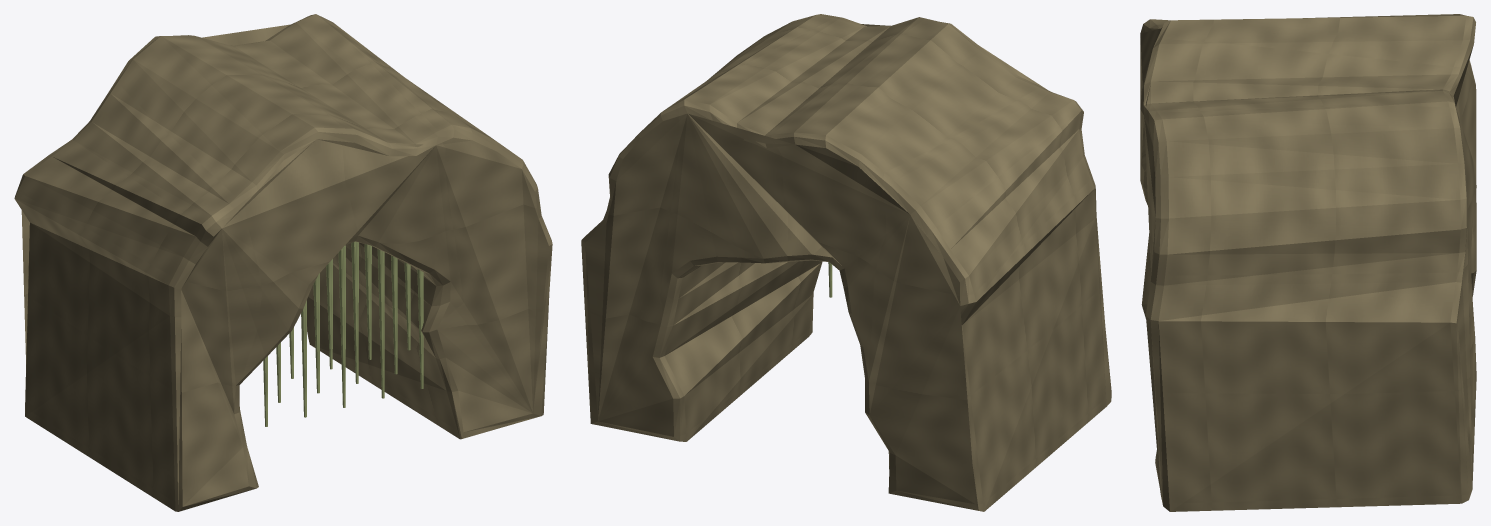
The model's file is hanging_moss_curtain_arch_swamp_and_mangrove_22656.glb.
3 renders of one model, left to right at view 1: azimuth 30°, elevation 25°; view 2: azimuth 150°, elevation 25°; view 3: azimuth 270°, elevation 25°, orthographic. The views are drawn at different scales.
Visible parts, largest first — view 1: hanging-moss-arch; view 2: hanging-moss-arch; view 3: hanging-moss-arch.
Part boxes in pixels (bbox=[...]): hanging-moss-arch: bbox=[14, 14, 552, 511]; hanging-moss-arch: bbox=[581, 14, 1111, 511]; hanging-moss-arch: bbox=[1140, 14, 1476, 511].
Bounding box in the file's own units: 3.96 × 3.28 × 2.7.
Materials: 2 (2 with a texture image).
